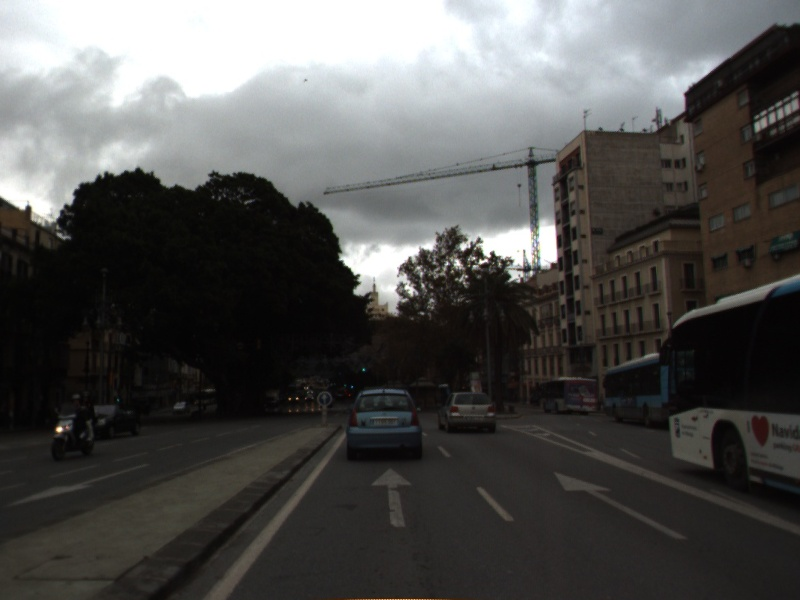STRAIGHT: (551, 470, 690, 542), (368, 465, 415, 530)
